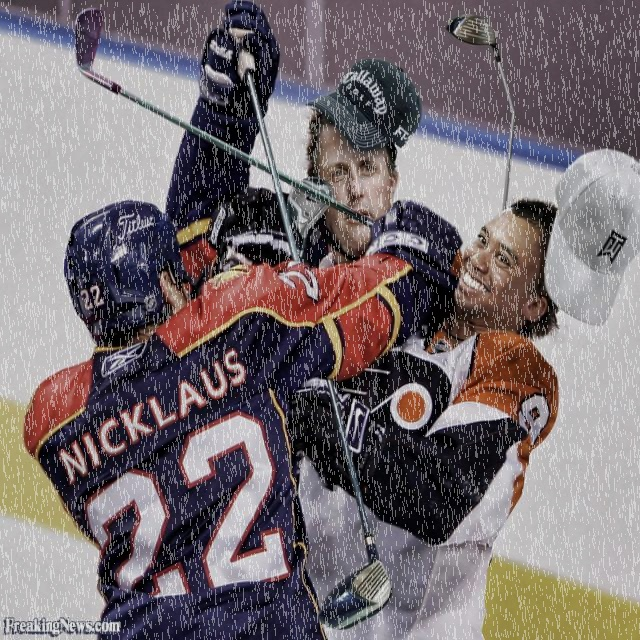pessoa: (19, 200, 468, 640), (293, 196, 572, 639), (164, 0, 402, 283)
